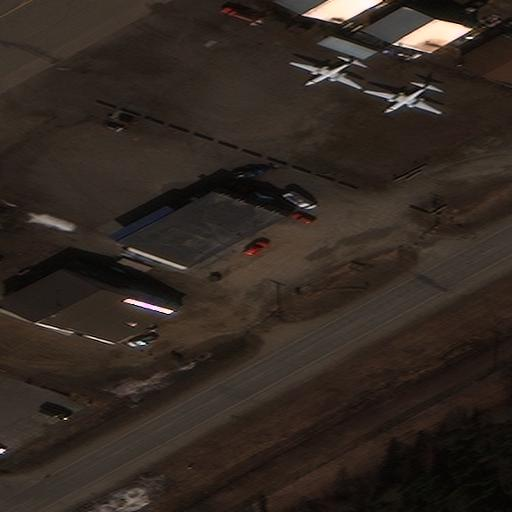Medium Civil Transport: (362, 83, 441, 114)
Small Civil Transport: (289, 58, 359, 89)
